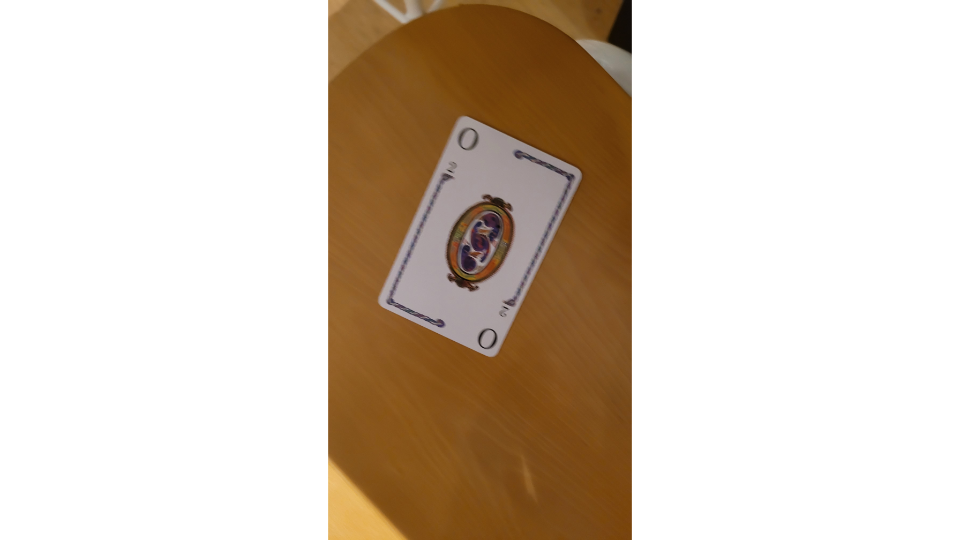O: (375, 111, 586, 361)
